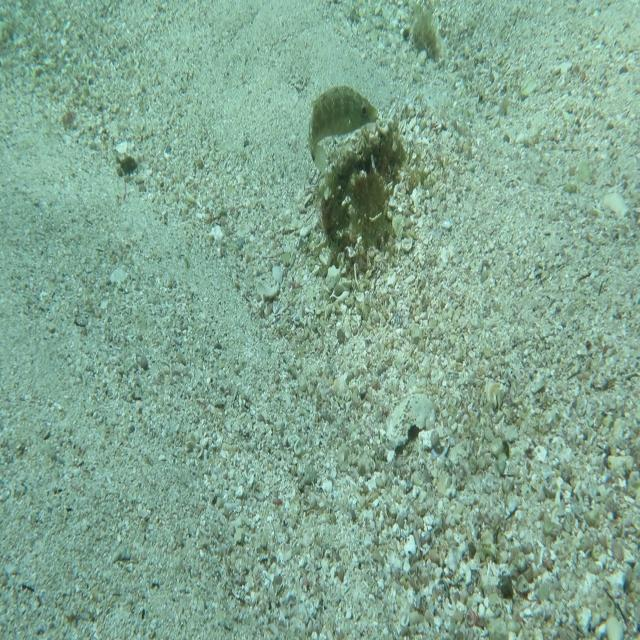AM: (308, 83, 378, 175)
core_nest: (371, 141, 402, 178)
nest: (317, 118, 416, 262)
nest_material: (377, 113, 384, 122)
vegetation: (411, 11, 443, 63), (118, 150, 137, 176)
